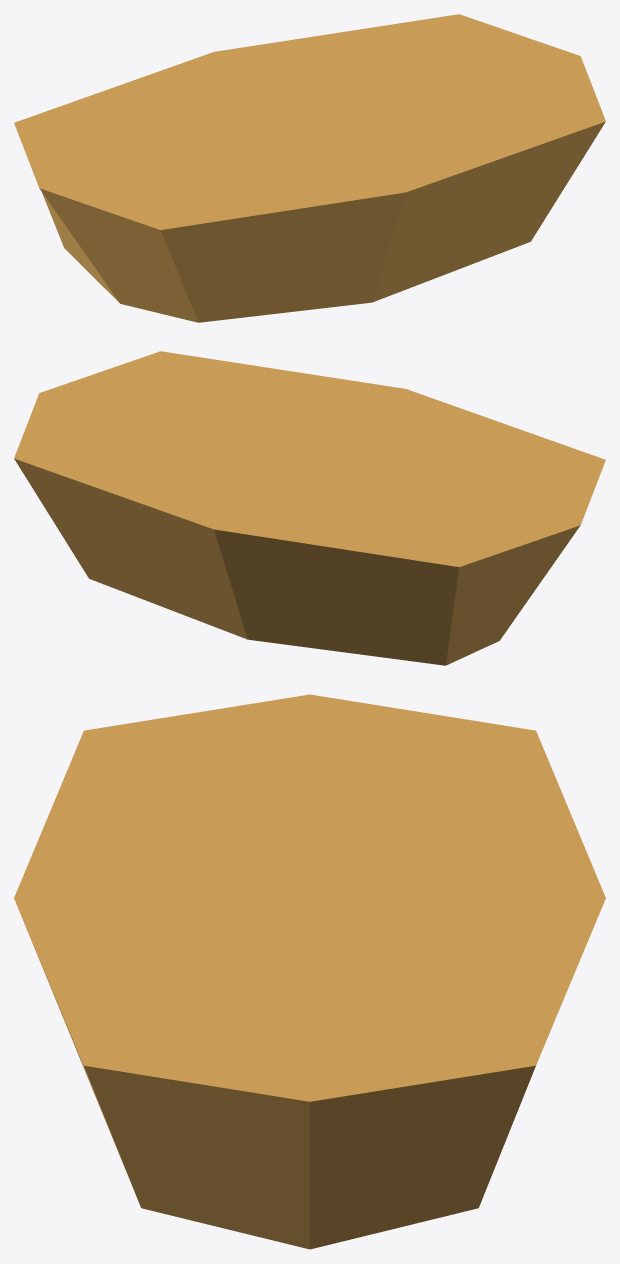
The model's file is potatoHalf.fbx.
3 views of the same model, one above another, from view 1: azimuth 30°, elevation 25°; view 2: azimuth 150°, elevation 25°; view 3: azimuth 270°, elevation 25° (orthographic). The views are drawn at different scales.
Parts seen in each view (by area): view 1: potatoHalf; view 2: potatoHalf; view 3: potatoHalf.
Part boxes in pixels (x1,y1,x2,y2): potatoHalf: [14, 14, 605, 322]; potatoHalf: [14, 351, 605, 665]; potatoHalf: [14, 694, 605, 1249].
Bounding box in the file's own units: 14.72 × 3.88 × 9.04.
1 material, 1 textured.
